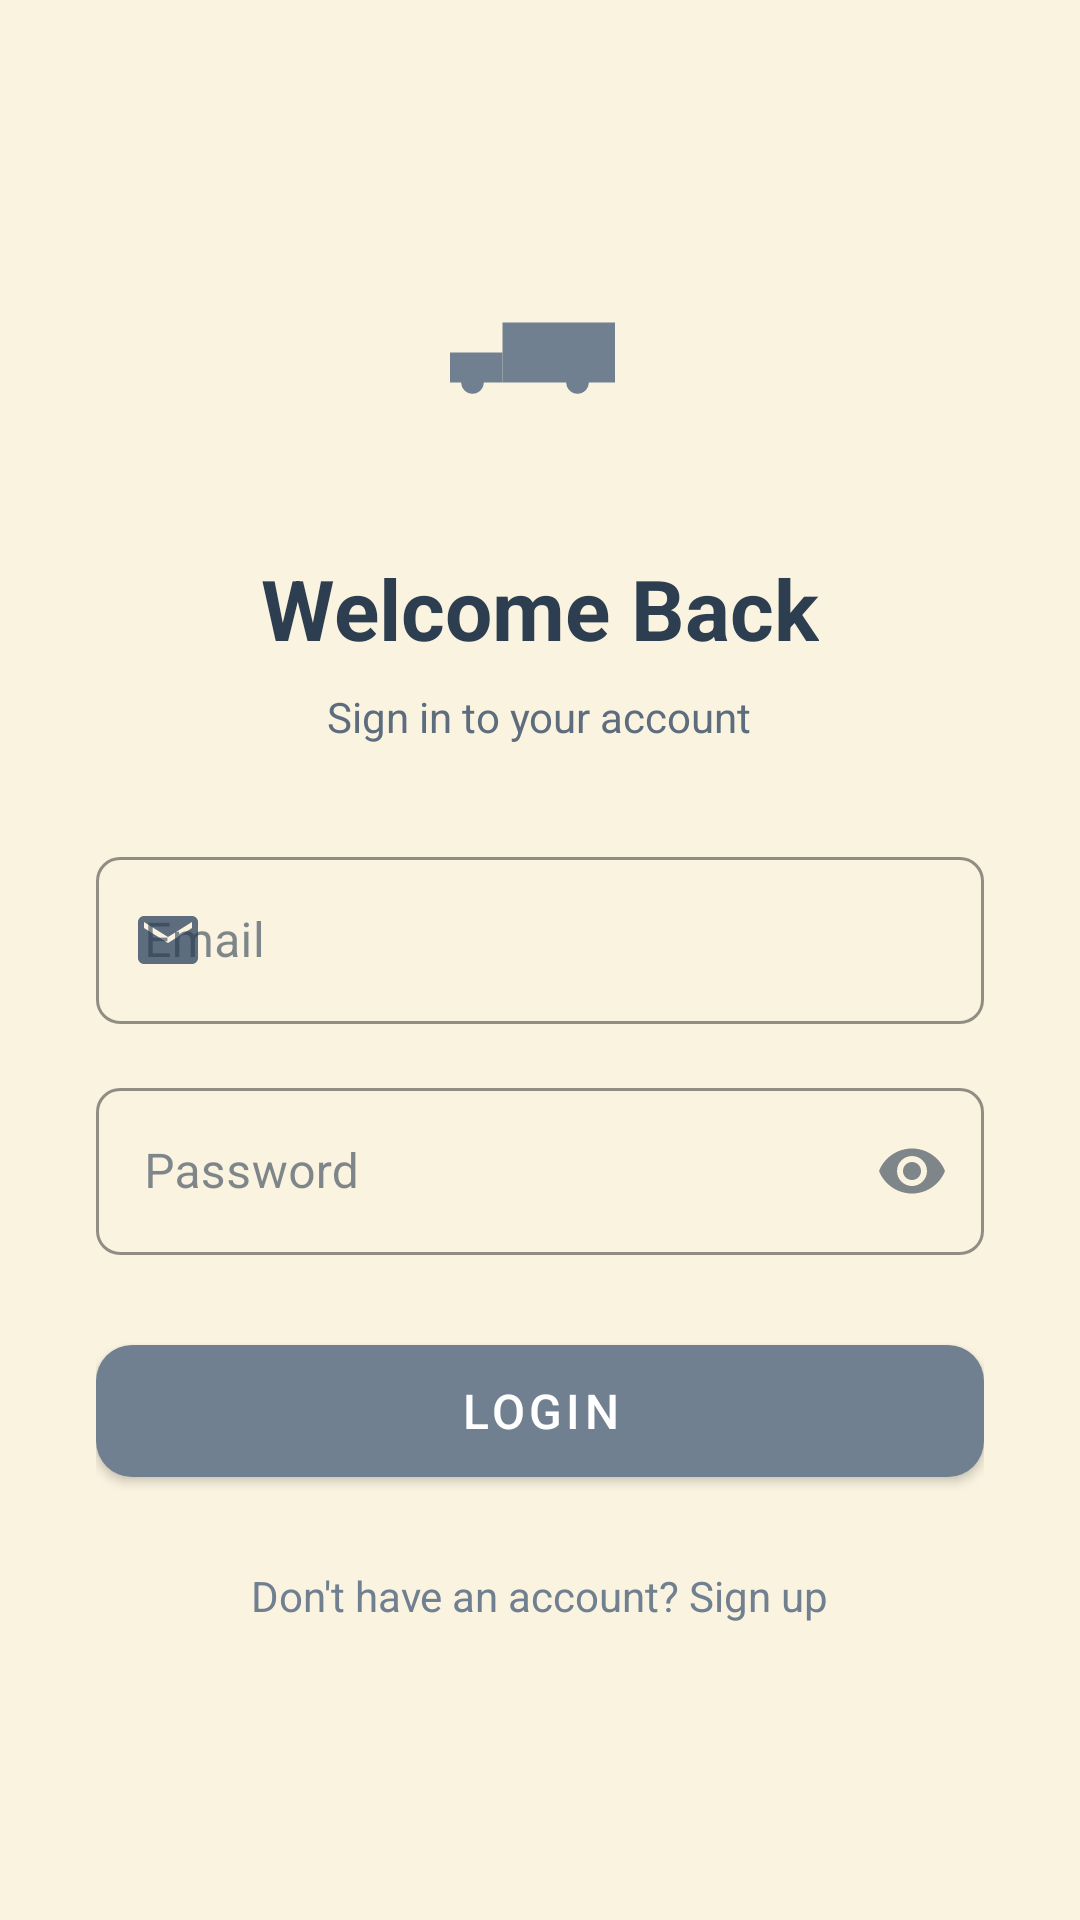

Icon click points for this 1080 × 1920 phone screenshot, format [x,y]:
truck: [532,358]
